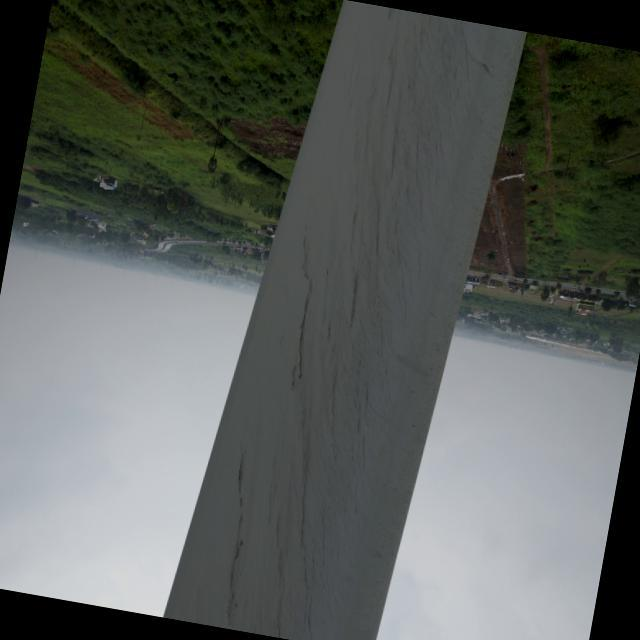Dirt: (220, 4, 509, 640)
